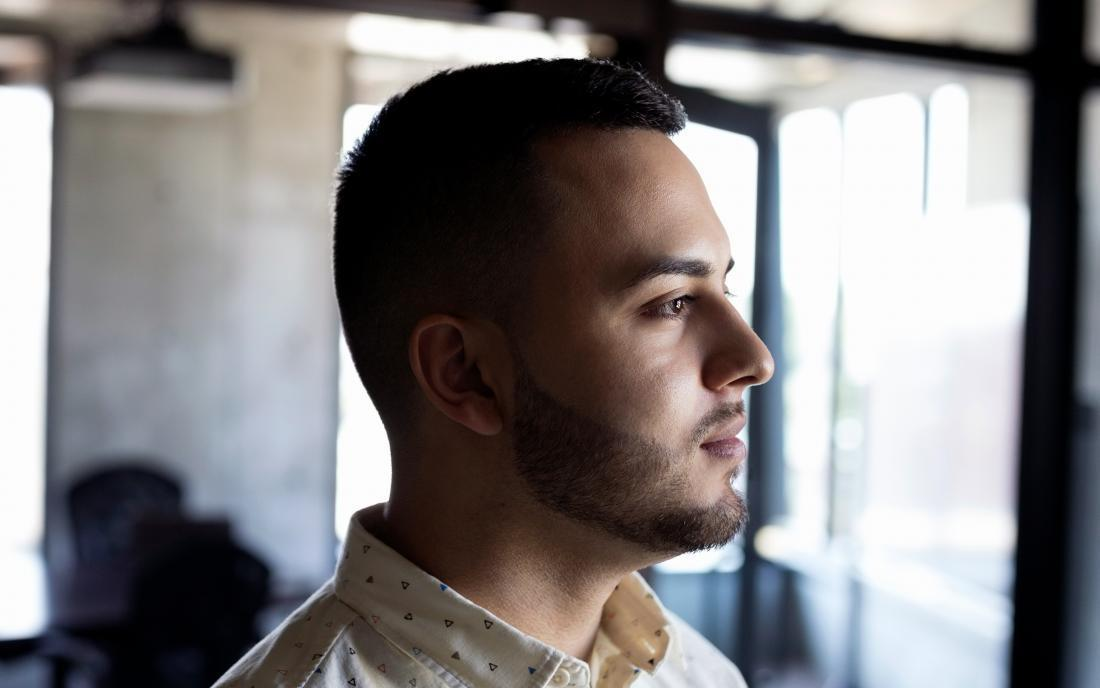Person: (612, 244, 777, 536)
